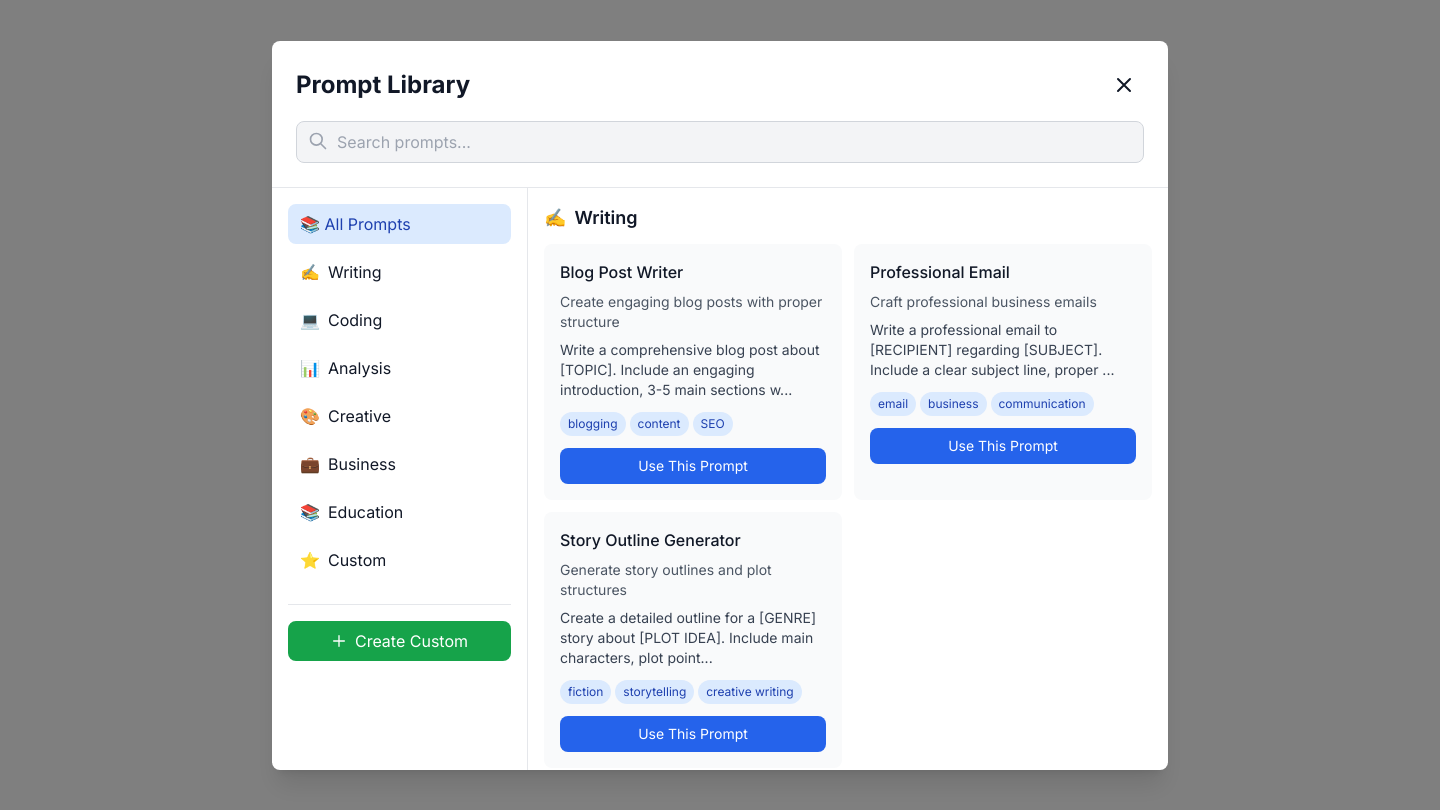
Test: PromptLibrary › opens create prompt modal
The width and height of the screenshot is (1440, 810).
What coordinates should you click on to do the following:
click the button "Create Custom"
I would click on:
 (400, 640)
Its box is top-left (288, 620), bottom-right (511, 660).
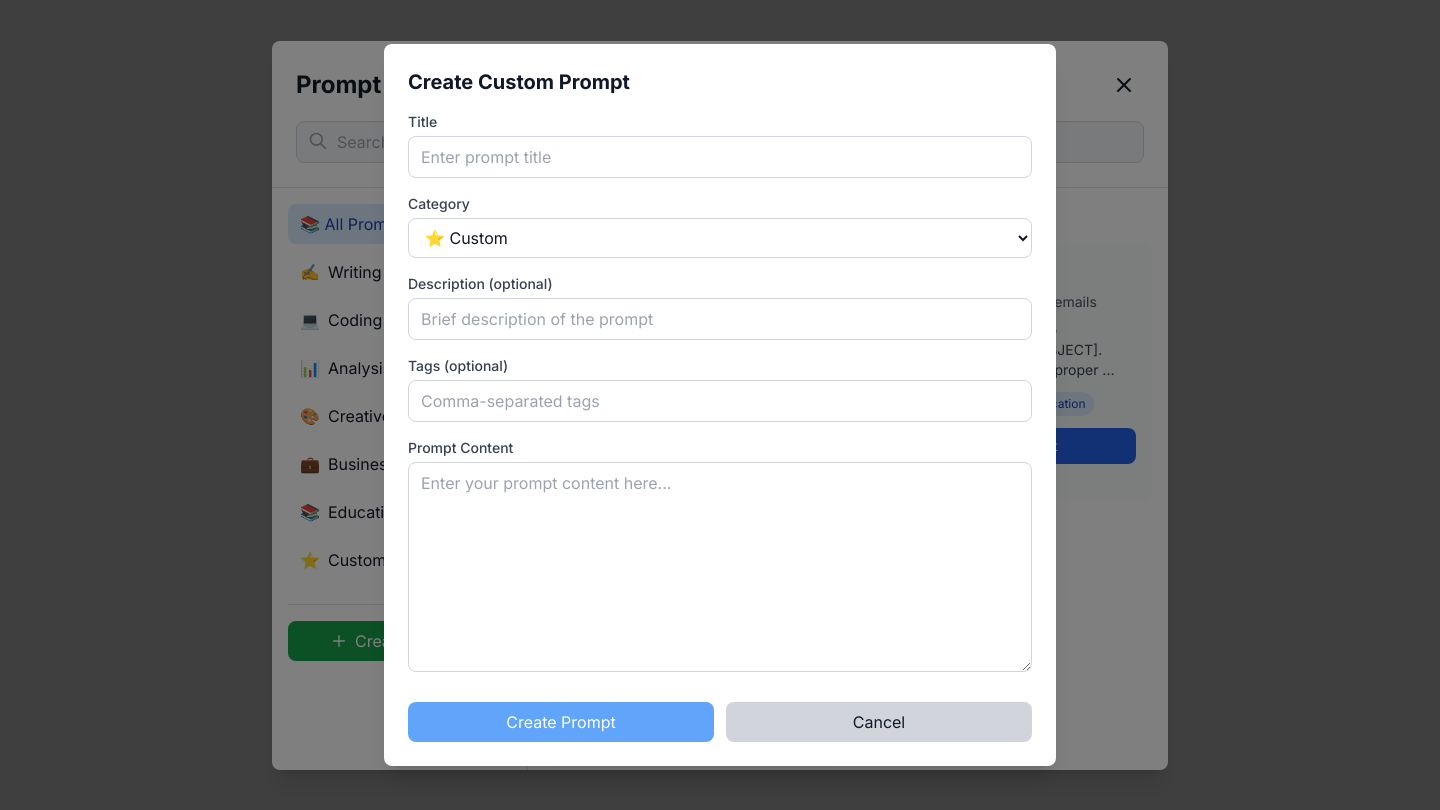
Expected: the heading "Create Custom Prompt" is shown, top-left (408, 70), bottom-right (630, 94)
